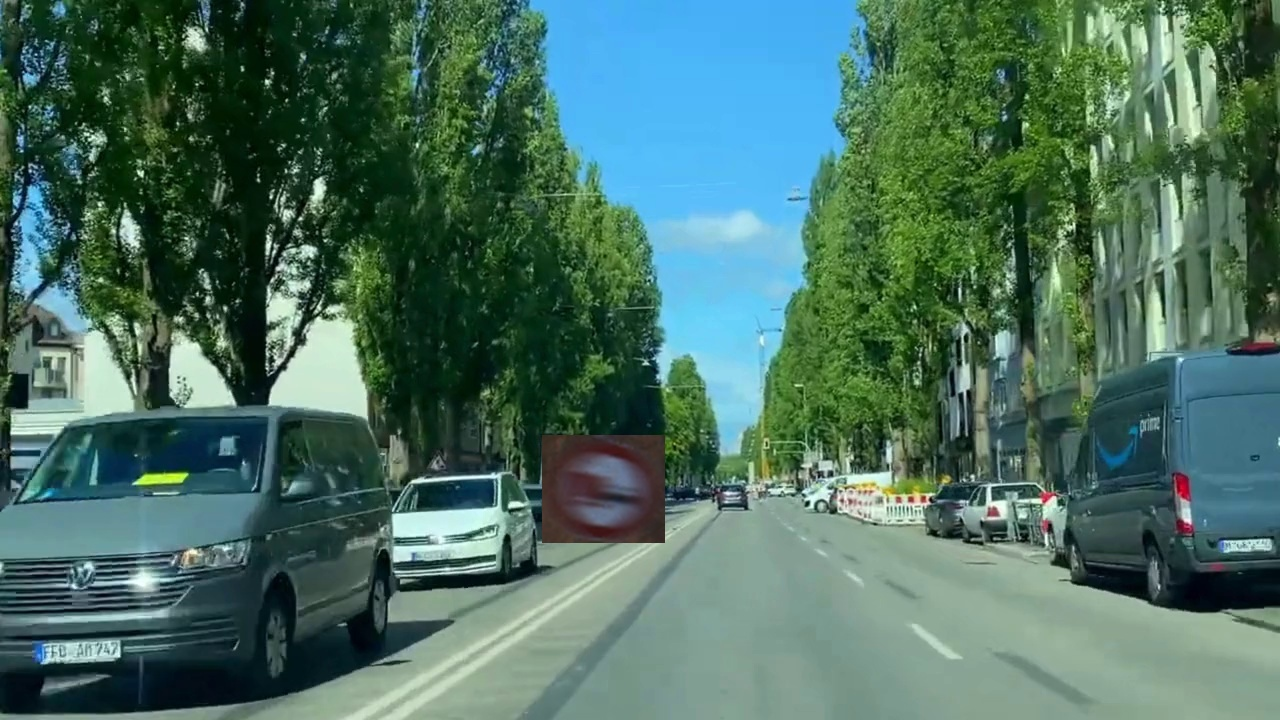No pass >3.5t: (542, 435, 665, 543)
